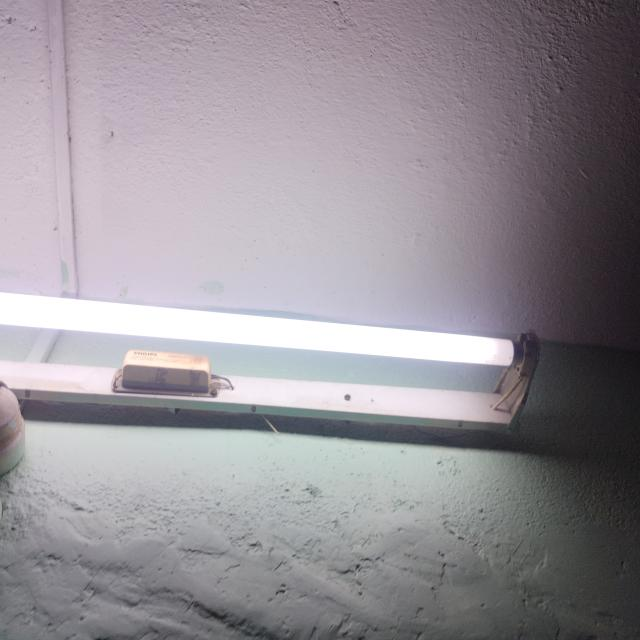tubelight_on: (0, 290, 542, 440)
